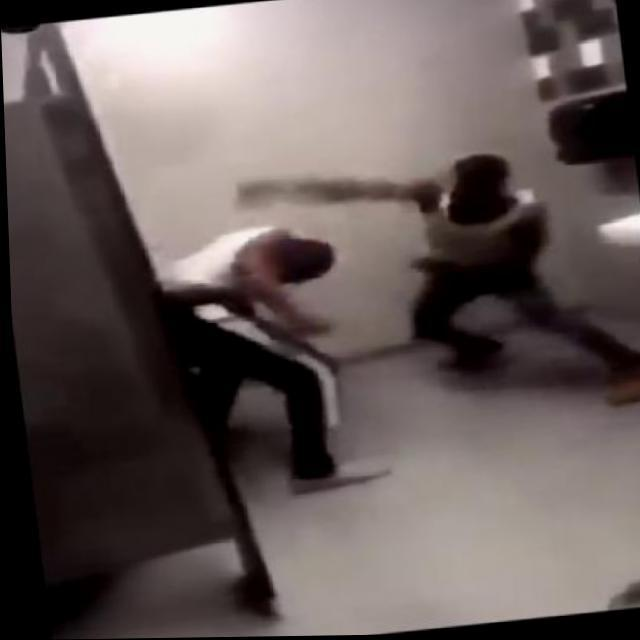fight: (129, 137, 640, 484)
